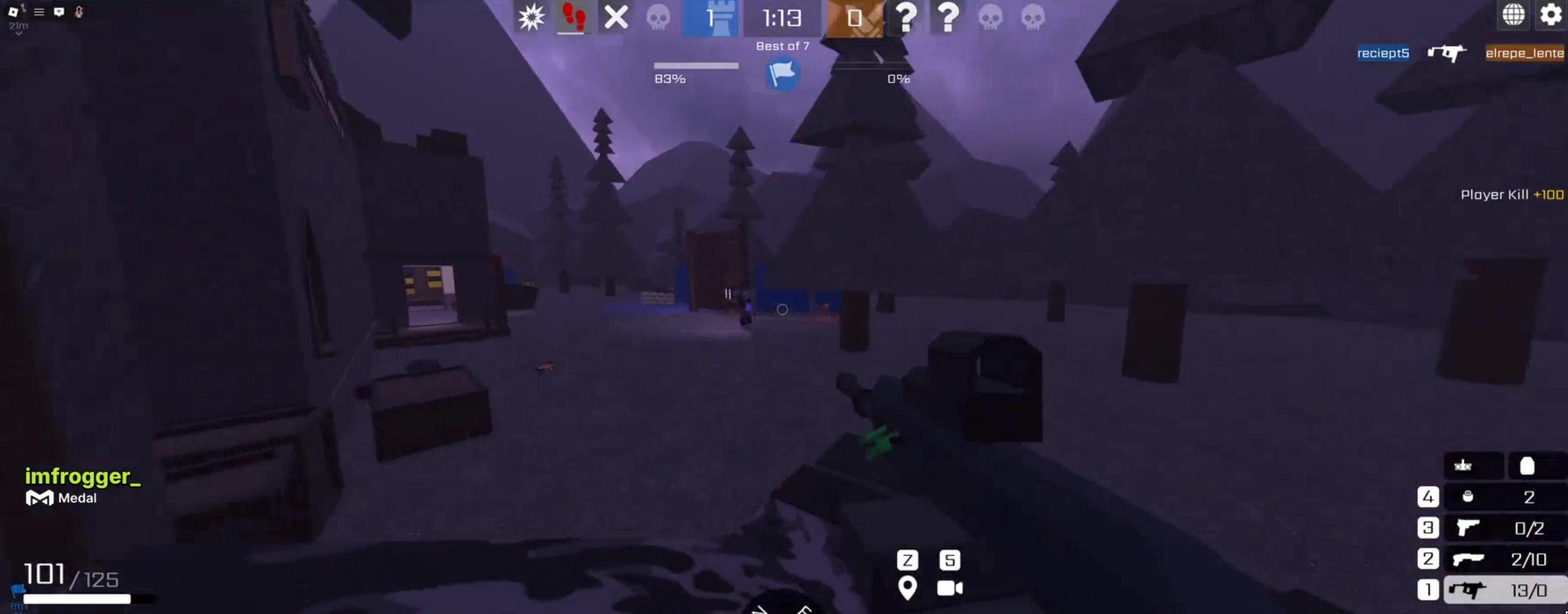enemy: (737, 284, 756, 329)
